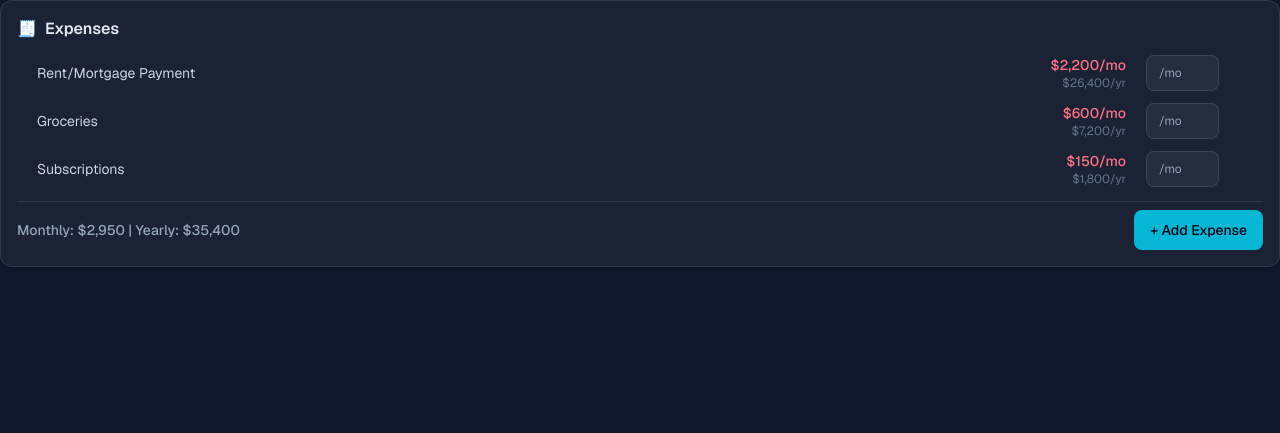
ExpenseEntry component › adds a new expense item via the add form
Click the button "+ Add Expense" at coordinates (1199, 230), box [1134,210,1263,250]
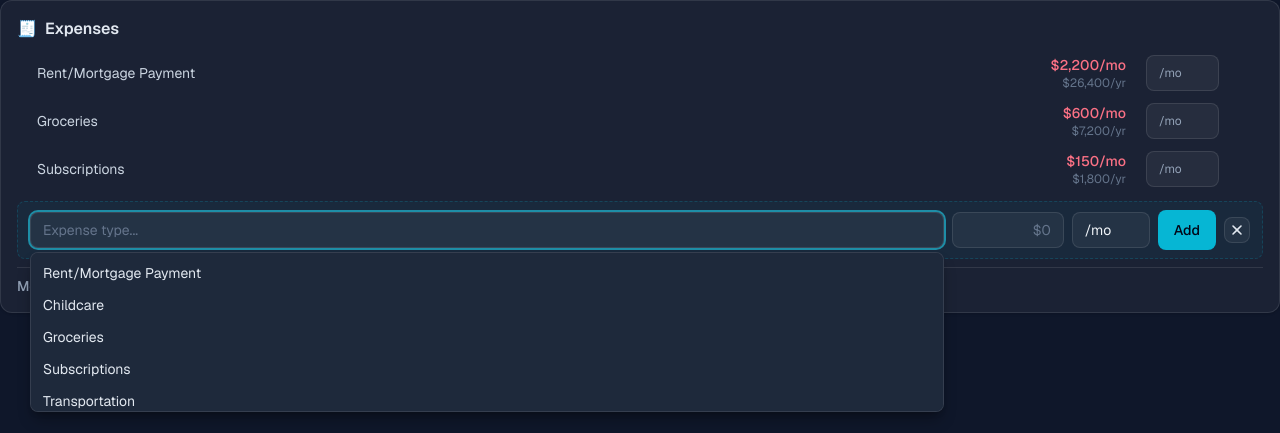
Type "Transportation" into the field named "New expense category" at coordinates (487, 230), box [30,212,944,248]
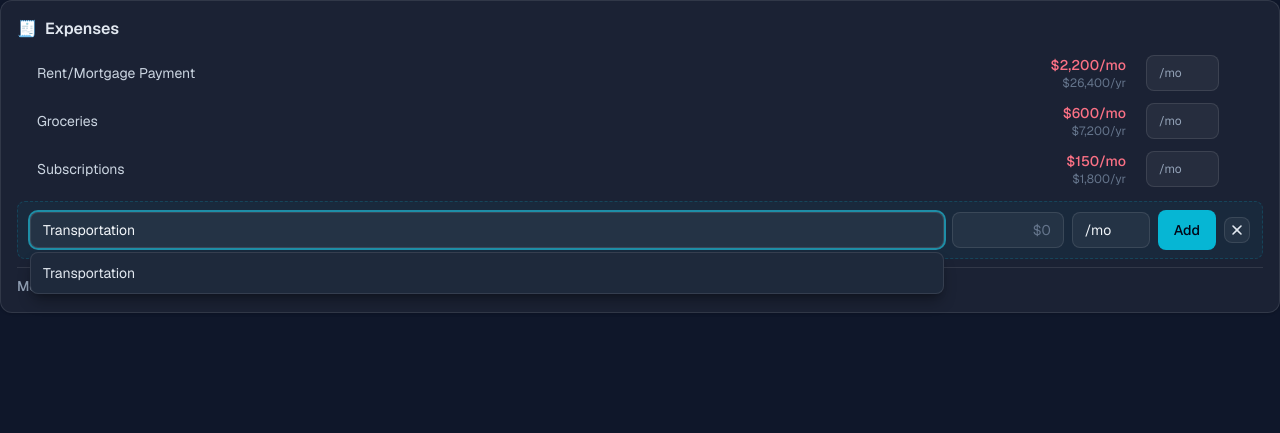
Type "200" into the field named "New expense amount" at coordinates (1008, 230), box [952,212,1064,248]
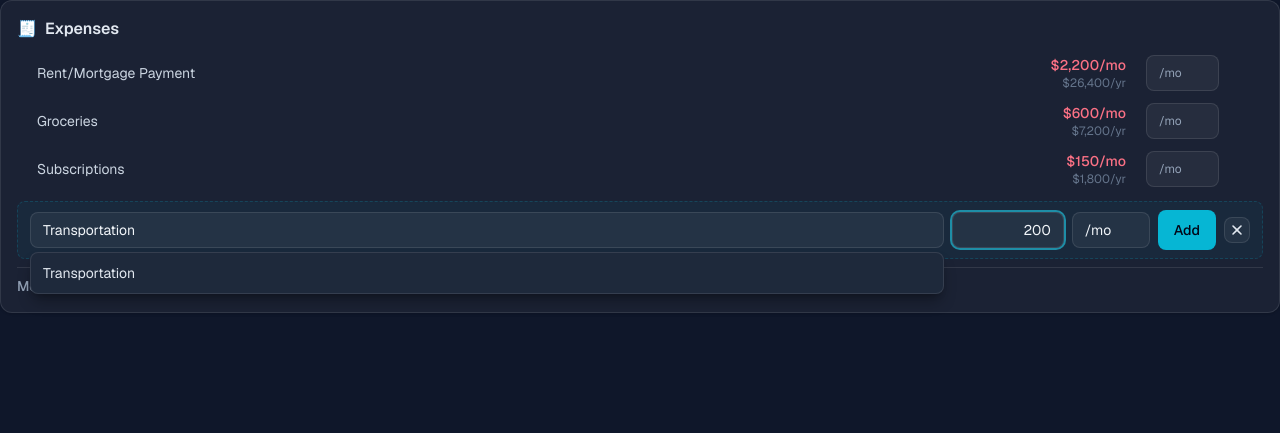
Click the button with aria-label "Confirm add expense" at coordinates (1187, 230), box [1158,210,1216,250]
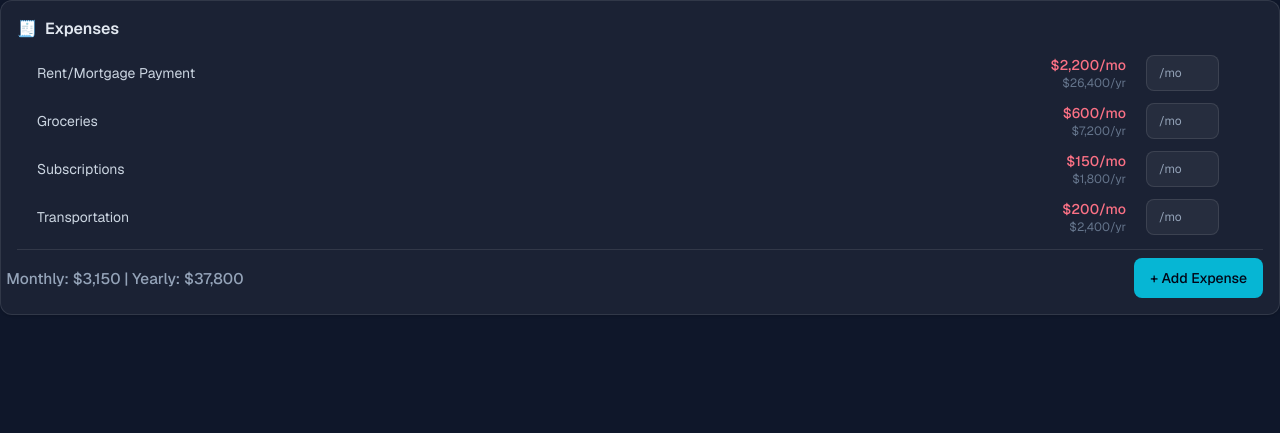
Now the button "Transportation" is shown, box [29,203,1010,231]
Now the text "$200/mo" is shown, box [1062,200,1126,218]
Now the text with test id "expense-monthly-total" reads "$3,150", box [73,268,120,288]
